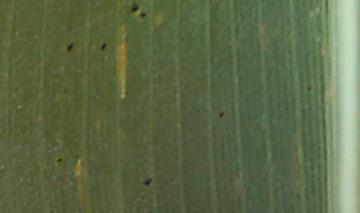tarspot: (142, 175, 156, 189), (64, 40, 78, 53), (52, 154, 65, 167), (303, 82, 316, 93), (129, 1, 140, 13), (98, 40, 108, 52), (217, 110, 228, 120), (139, 11, 149, 19)
